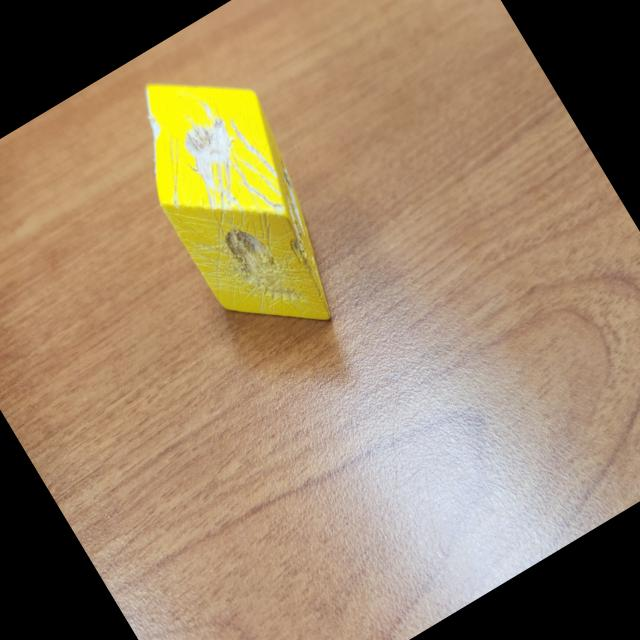broken: (104, 37, 378, 366)
